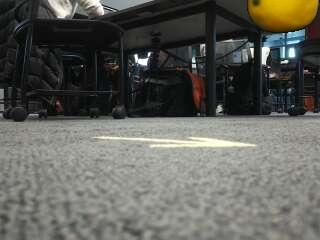lemon: (248, 0, 318, 32)
